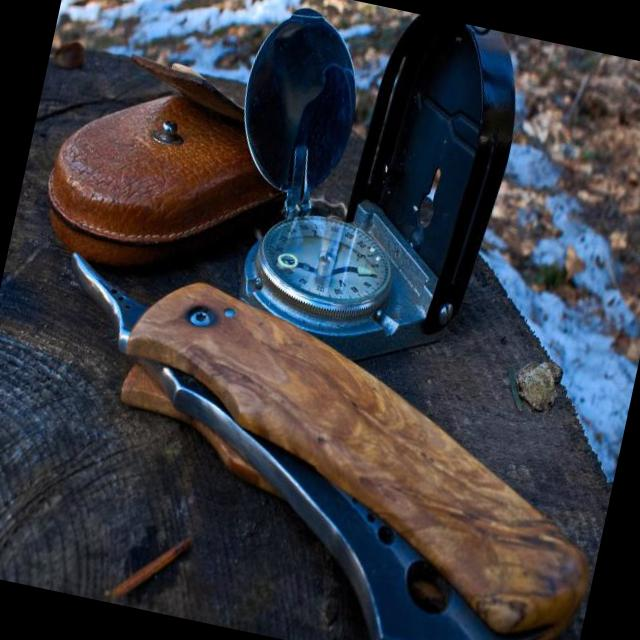Knife: (73, 254, 587, 640)
